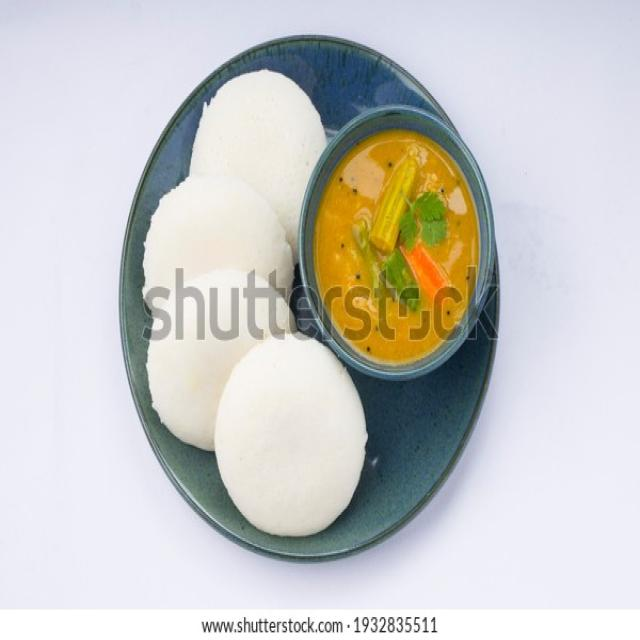IDLI: (219, 329, 369, 542), (143, 270, 296, 460), (196, 70, 328, 237), (145, 174, 293, 307)
